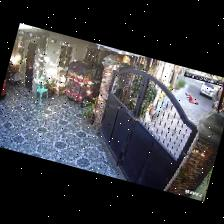person: (185, 94, 197, 104)
